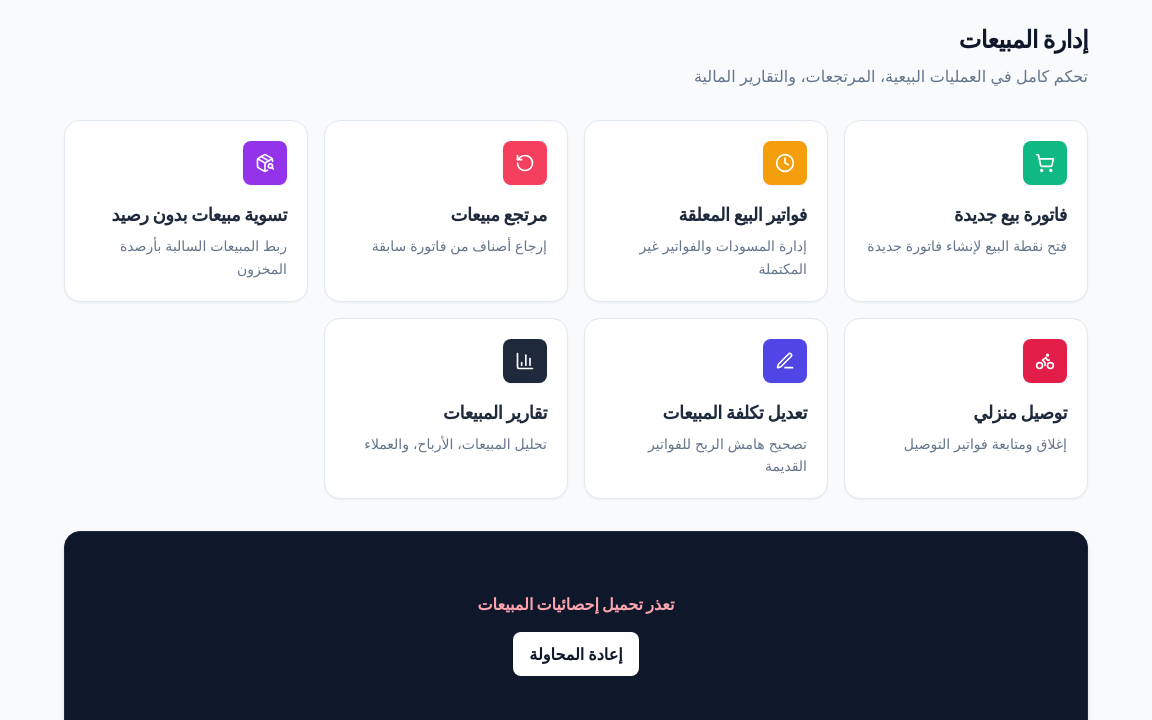
coverage gap: report error recovery › shows a retryable sales-dashboard stats error instead of stale loading labels
Expected: the text "تعذر تحميل إحصائيات المبيعات" is shown, x1=478 y1=592 x2=674 y2=616
Click the button "إعادة المحاولة" at [576, 654], box x1=513 y1=632 x2=639 y2=676
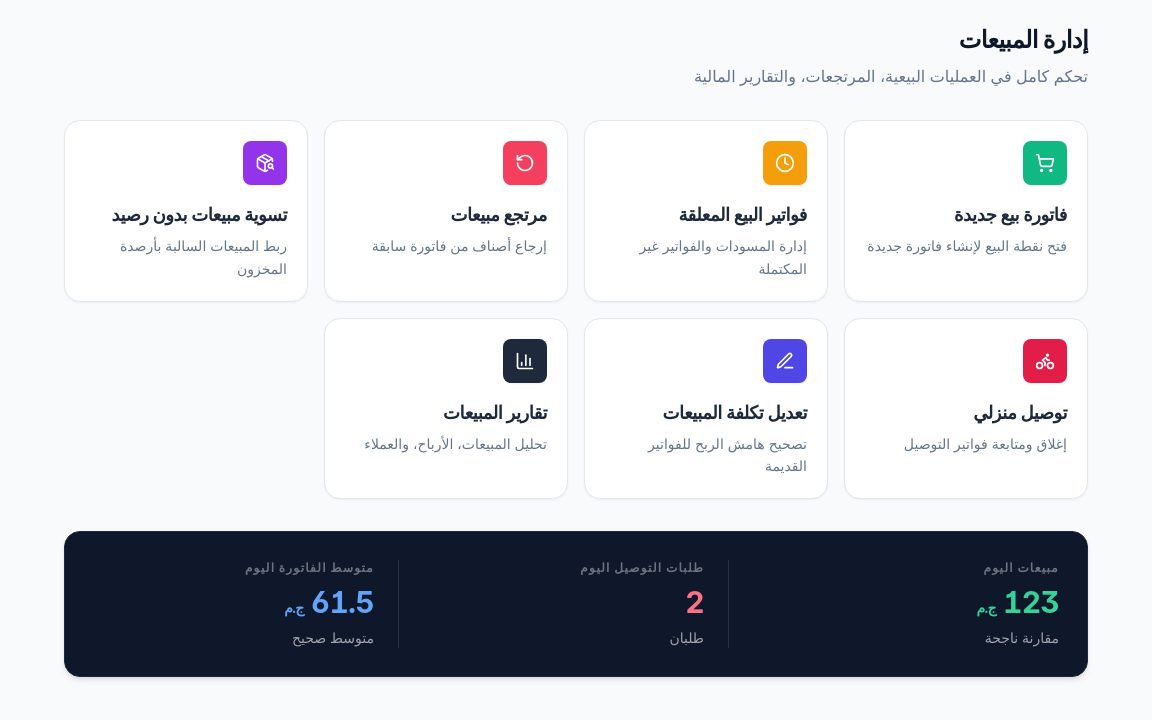
Now the heading "123 ج.م" is shown, box x1=976 y1=584 x2=1059 y2=620
Now the text "مقارنة ناجحة" is shown, box x1=985 y1=629 x2=1059 y2=646
